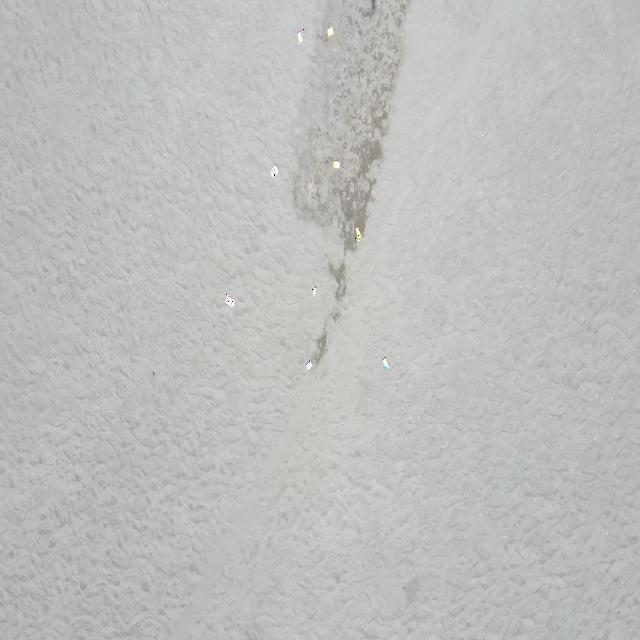Garbage: (224, 293, 233, 306), (296, 27, 303, 43), (271, 164, 278, 176), (355, 226, 360, 240), (304, 360, 312, 368), (383, 356, 388, 367), (327, 26, 332, 36), (332, 160, 339, 167), (312, 286, 316, 295)
